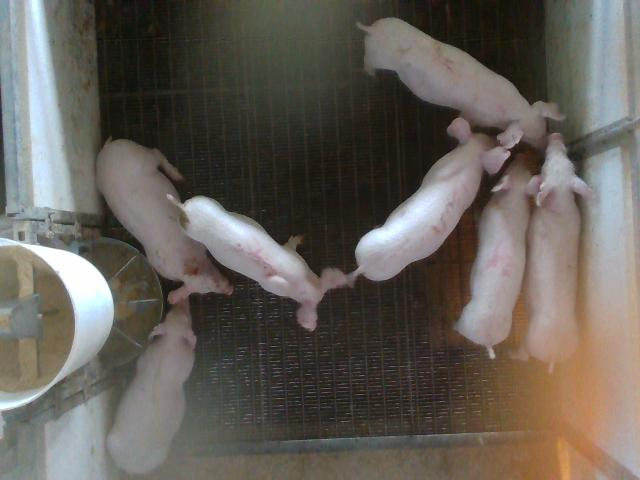pig-3: (354, 118, 510, 281)
pig-4: (455, 154, 540, 358)
pig-5: (168, 195, 353, 331)
